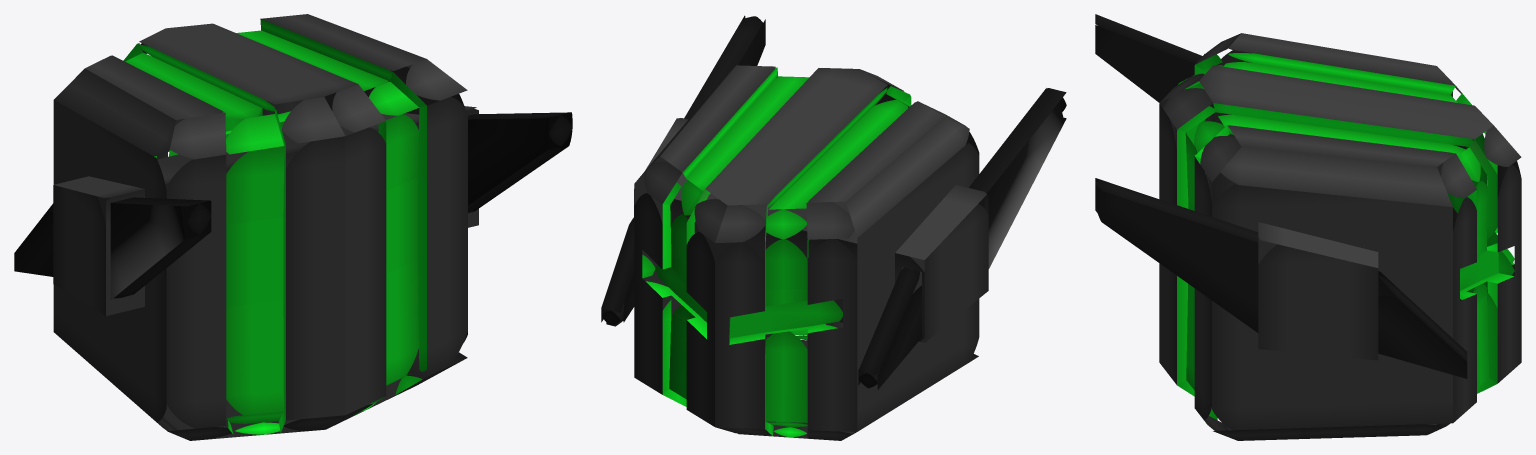
The model's file is RadioVillainHead.obj.
3 views of the same model, side by side, from view 1: azimuth 30°, elevation 25°; view 2: azimuth 150°, elevation 25°; view 3: azimuth 270°, elevation 25° (orthographic). The views are drawn at different scales.
Visible parts, largest first — view 1: Head, cuboid; view 2: Head, cuboid; view 3: Head, cuboid.
Boxes of the visible parts, x1,y1,x2,y2 form: Head: [53, 14, 467, 440]; cuboid: [14, 106, 572, 315]; Head: [634, 65, 979, 440]; cuboid: [601, 15, 1066, 389]; Head: [1159, 33, 1521, 440]; cuboid: [1095, 14, 1467, 378].
Size of the model in its own units: 0.464 by 0.3819 by 0.4781.
Materials: 1 (1 with a texture image).
